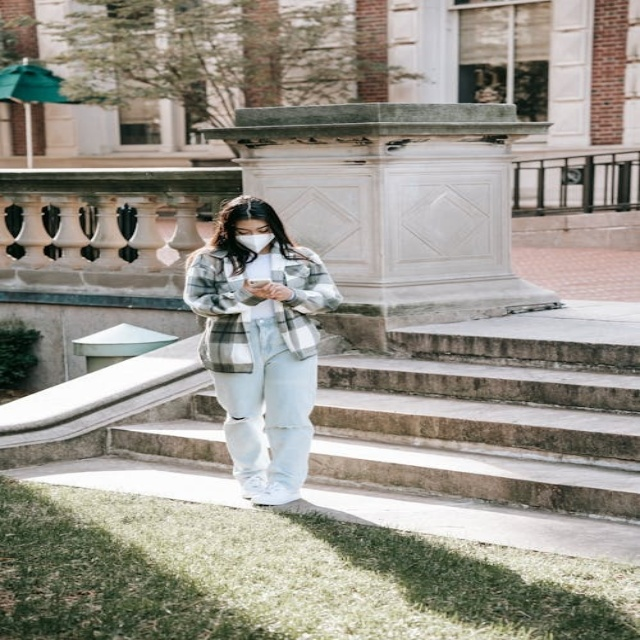Mascara: (234, 232, 276, 253)
Sin_gafas: (229, 224, 269, 235)
